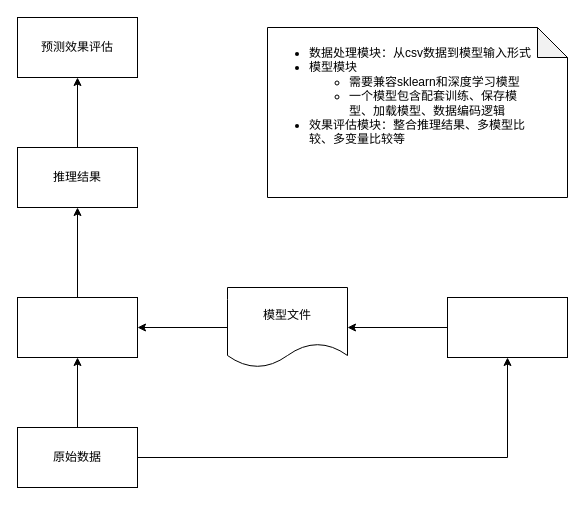
The diagram is 585 pixels wide and 505 high, and some of its shapes have lost their labels. The centre of each missing label's shape, as x and y in pixels:
"推理模型 + 特征构造" goes at point 77,327.
"模型训练" goes at point 507,327.
